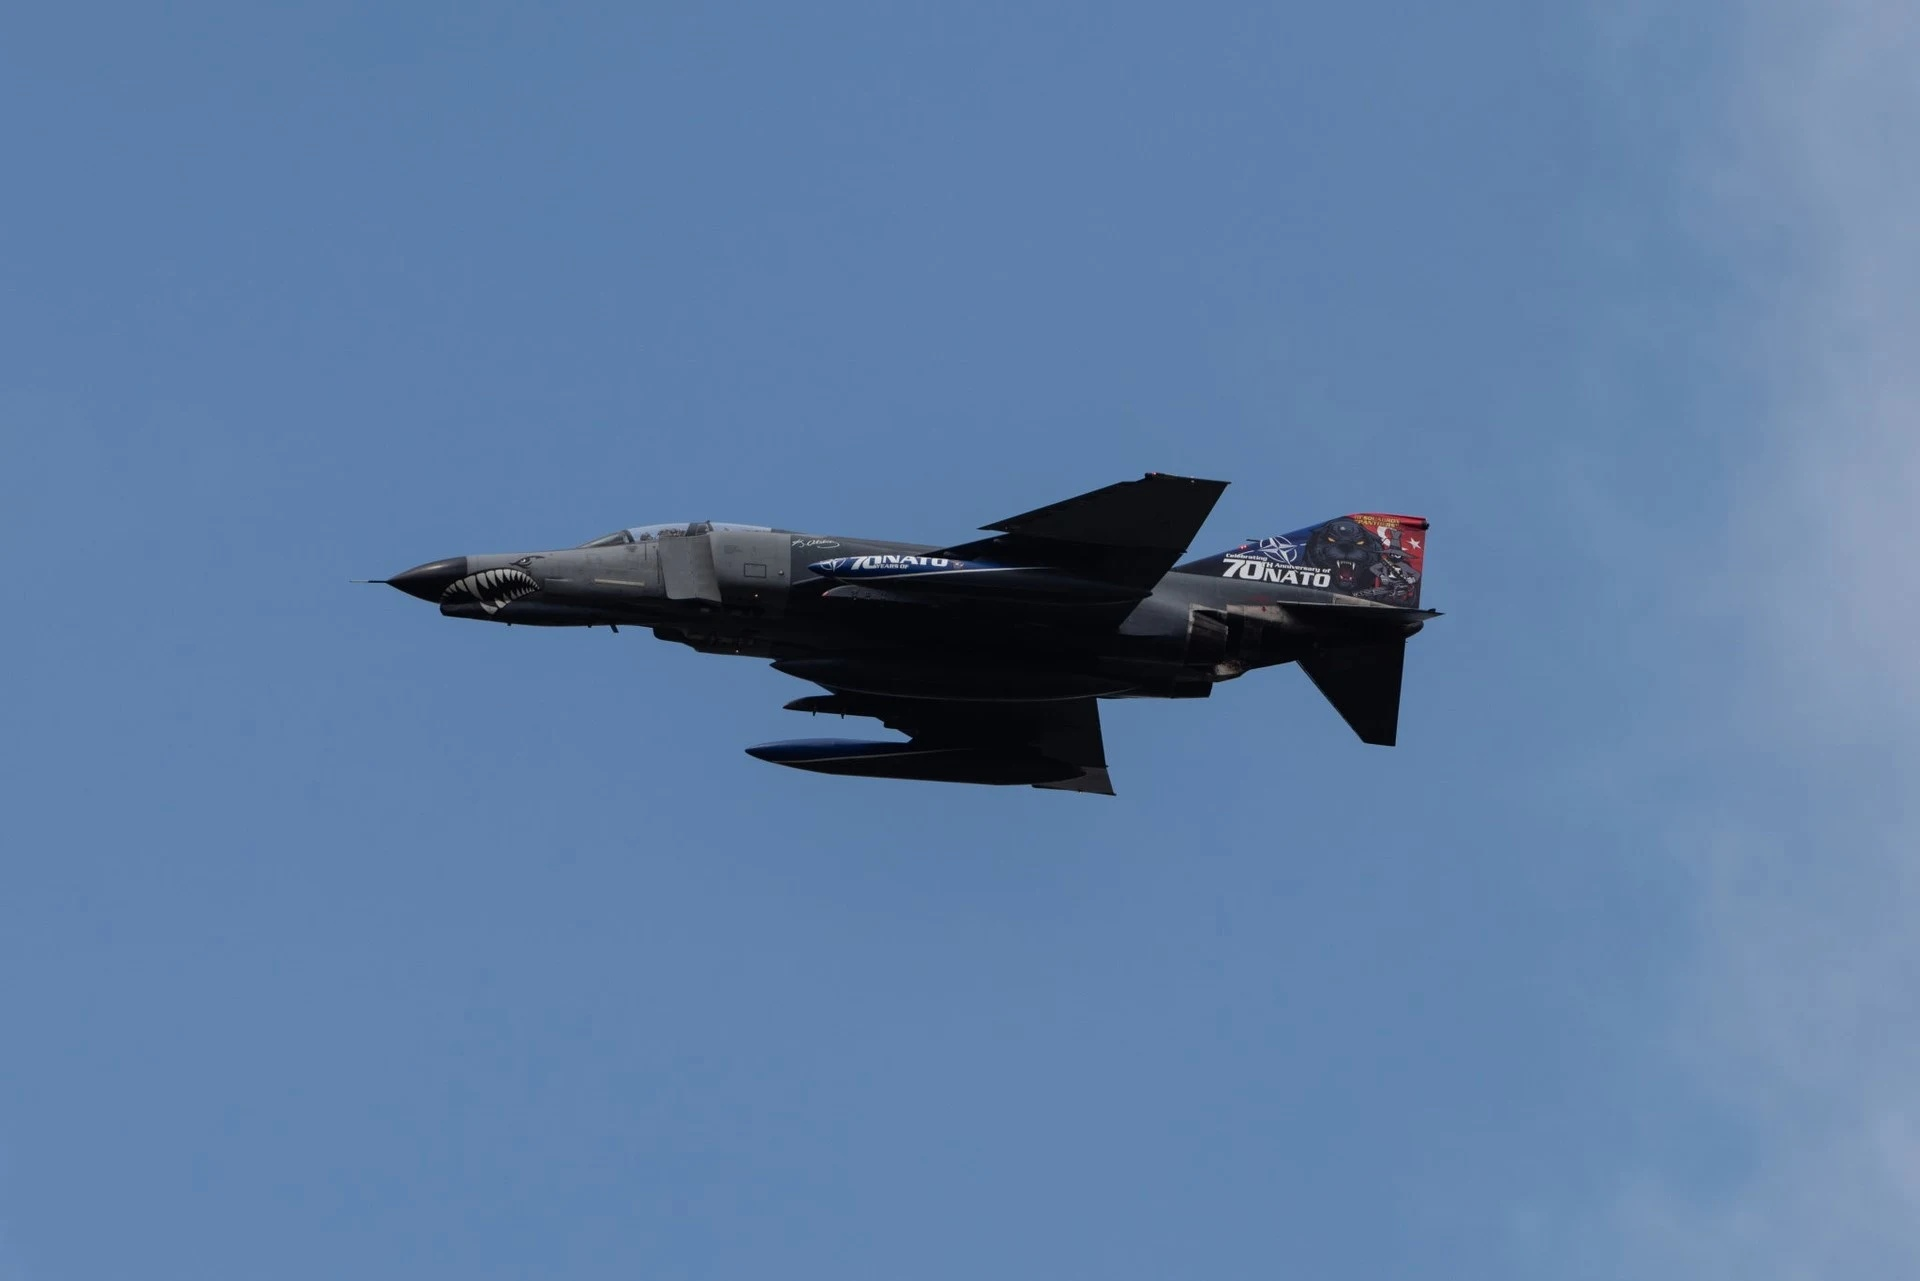F4: (347, 470, 1445, 796)
